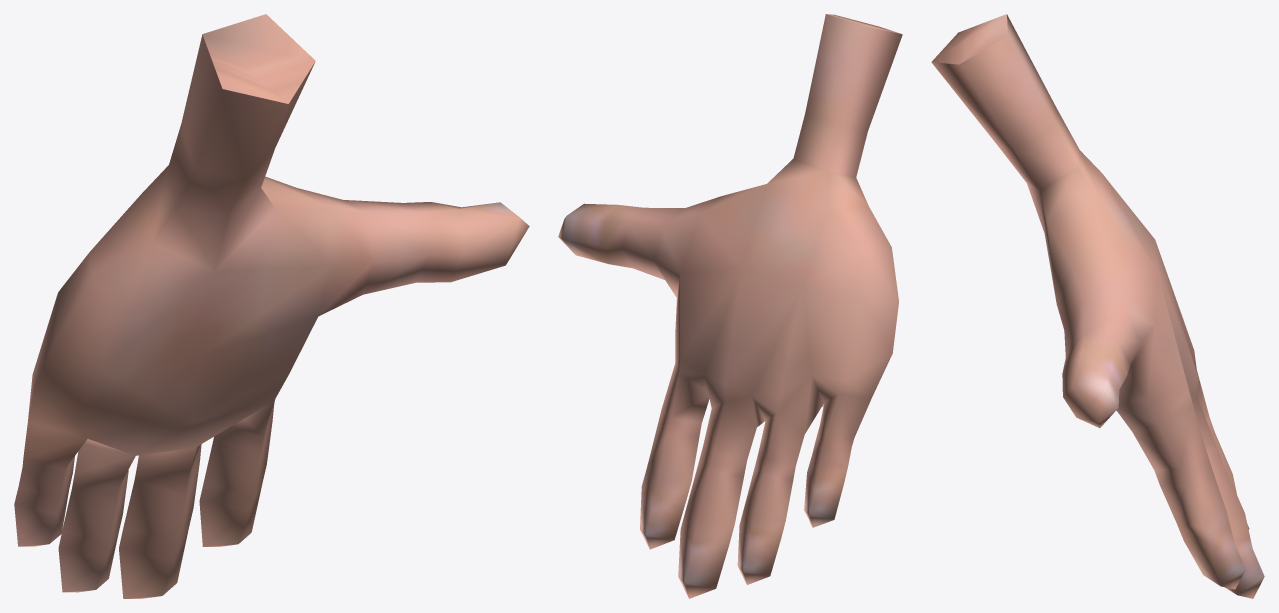
File: antebrazo_izq.obj
The picture shows the model from 3 angles, left to right: view 1: azimuth 30°, elevation 25°; view 2: azimuth 150°, elevation 25°; view 3: azimuth 270°, elevation 25°; orthographic projection. The views are drawn at different scales.
Visible parts, largest first — view 1: Material_#95.009; view 2: Material_#95.009; view 3: Material_#95.009.
Boxes of the visible parts, left/top/right/bottom form: Material_#95.009: left=14, top=14, right=529, bottom=598; Material_#95.009: left=558, top=14, right=902, bottom=598; Material_#95.009: left=931, top=14, right=1264, bottom=598.
Bounding box in the file's own units: 1.74 × 2.47 × 1.36.
1 material, 1 textured.
